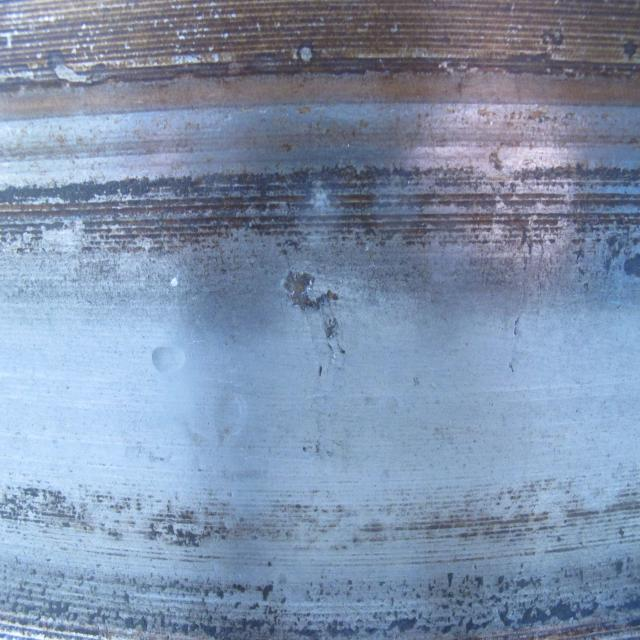Contact_Fatigue_Cracks: (574, 241, 629, 296), (536, 240, 559, 294)
Peeling: (279, 270, 344, 359)
